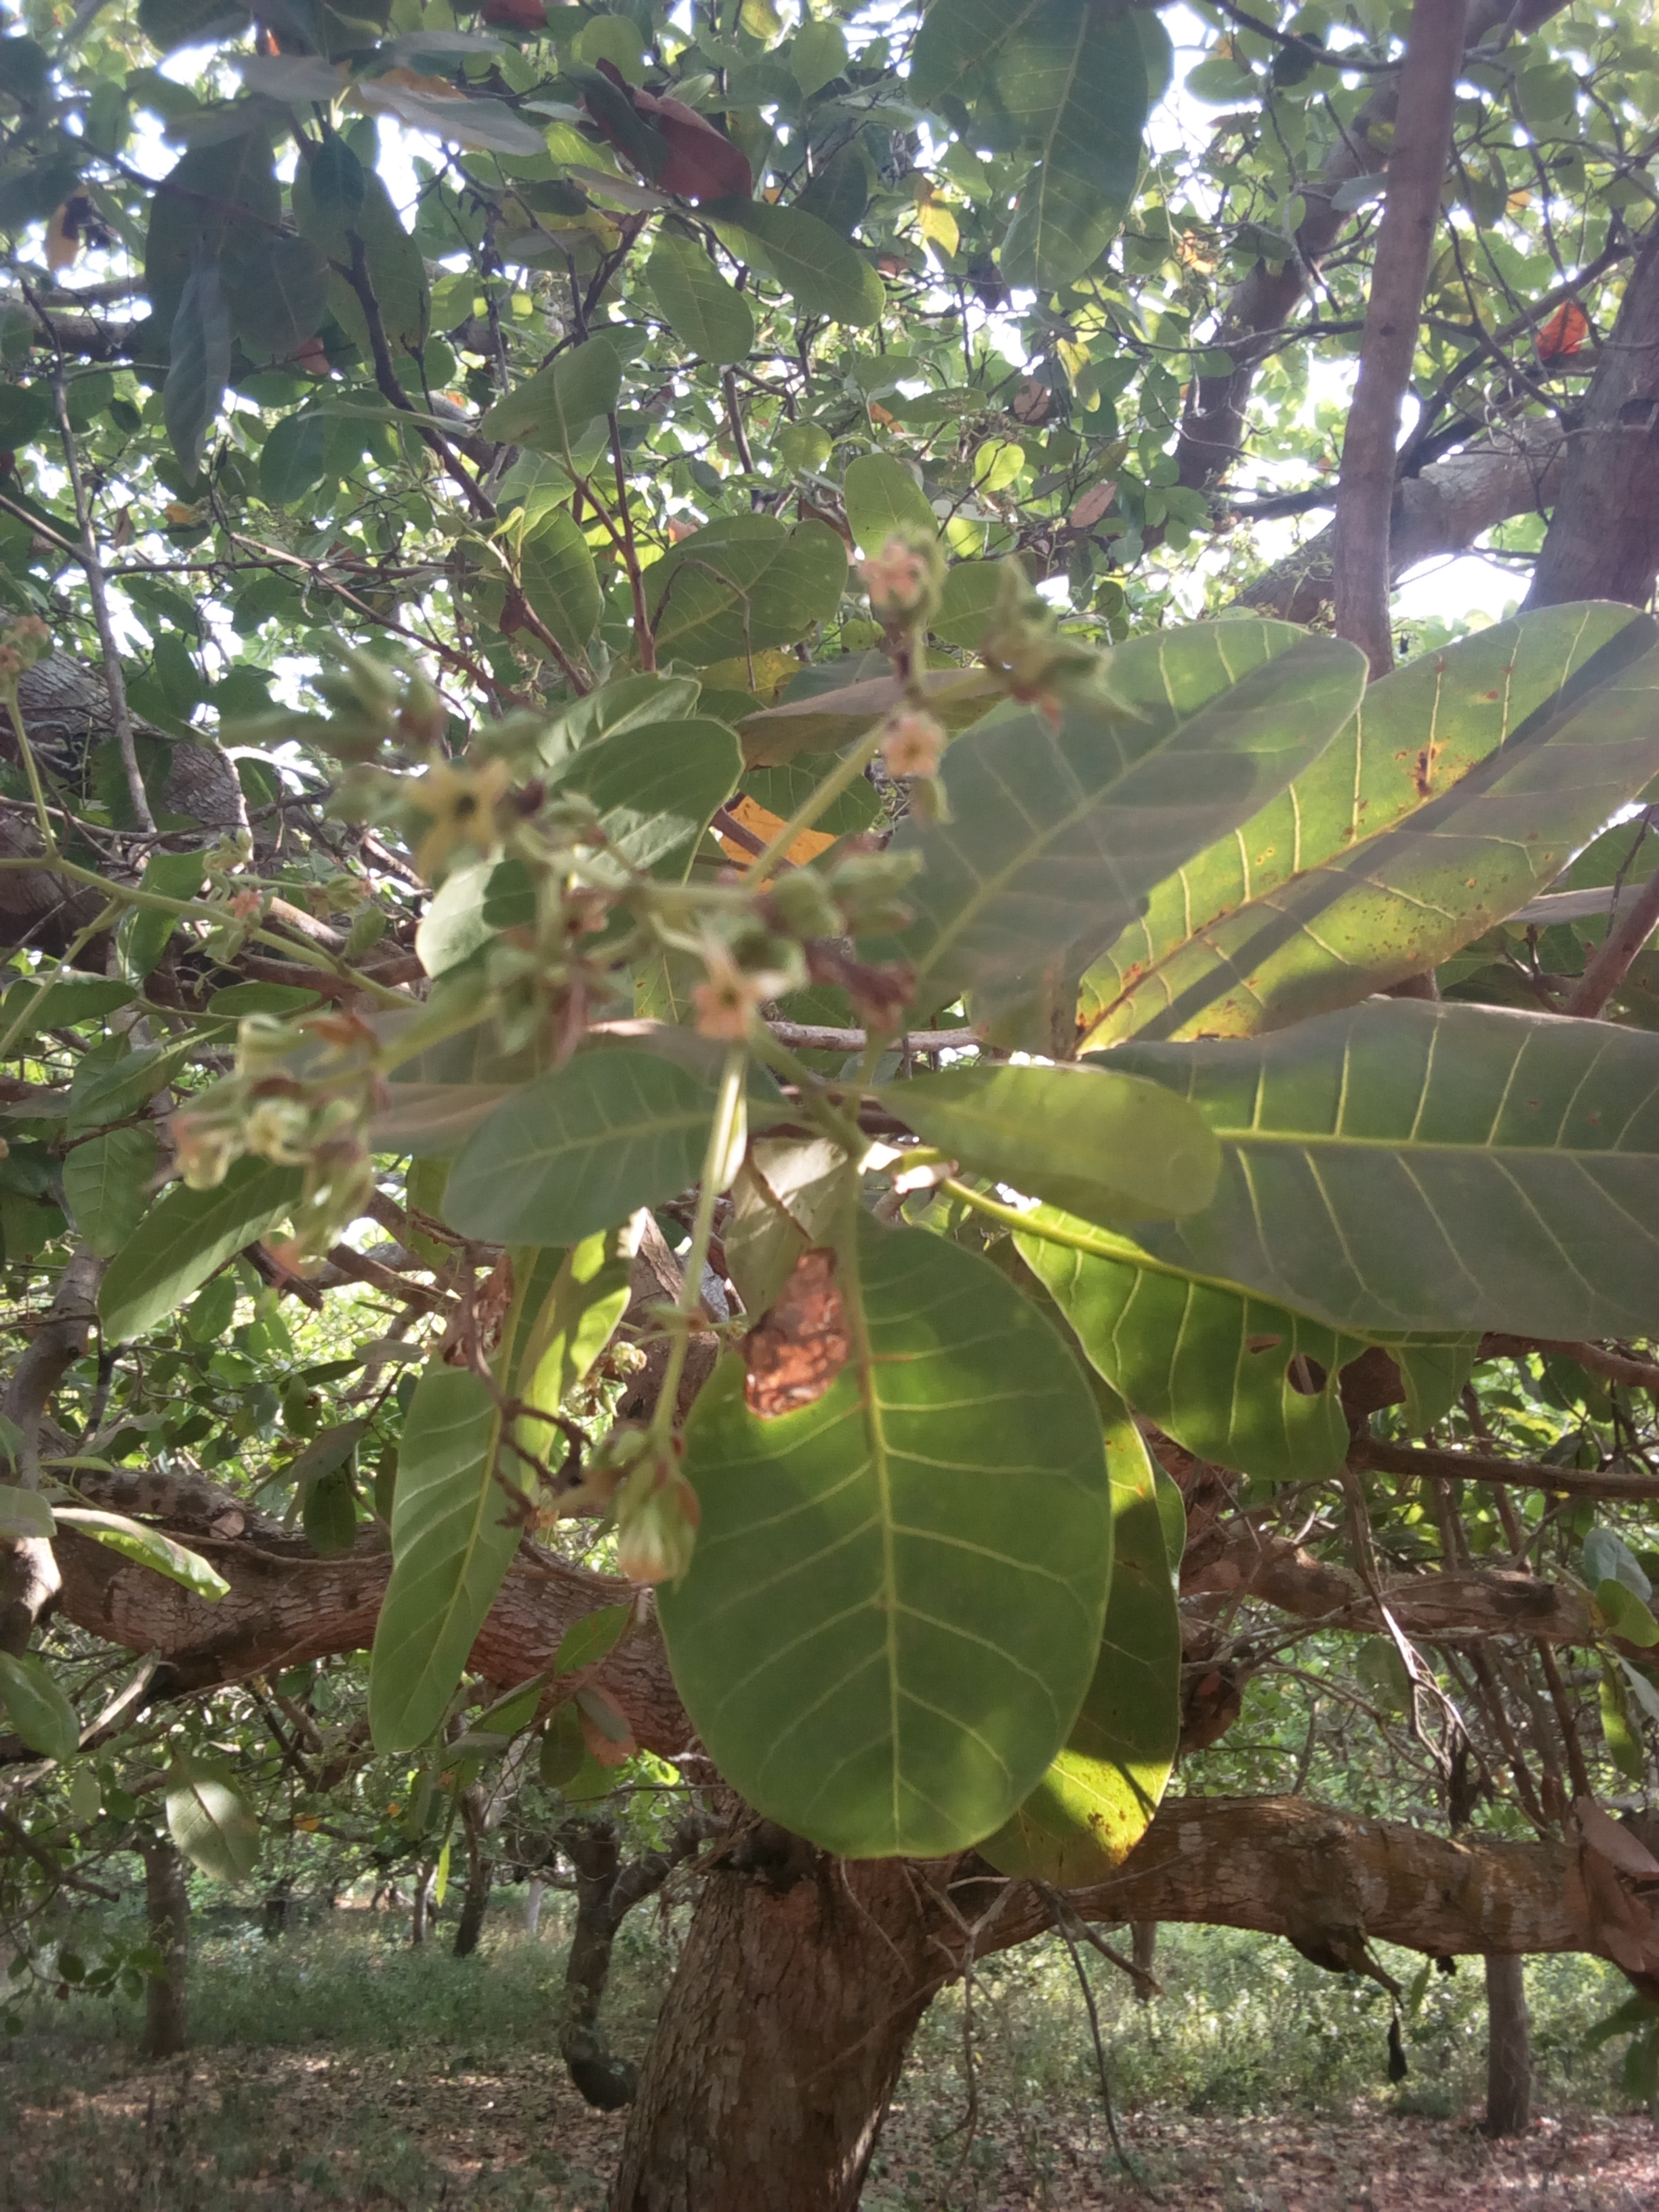Dysdercus wolkerii: (647, 1174, 1138, 1930)
